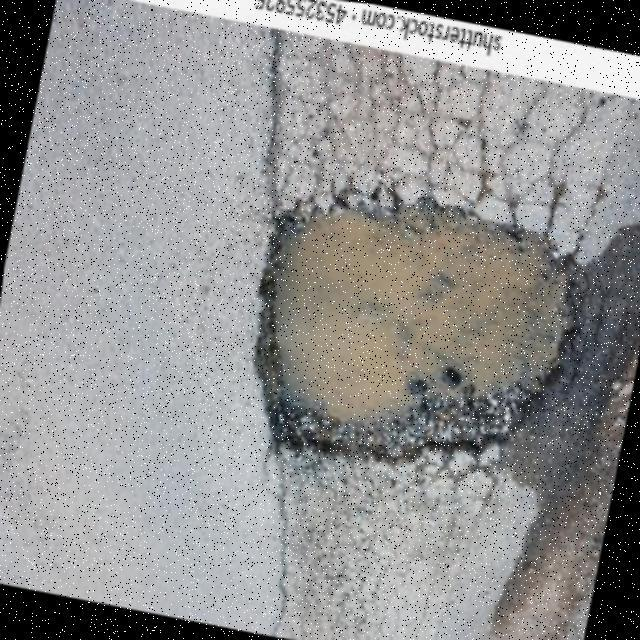Pothole: (253, 192, 566, 457)
